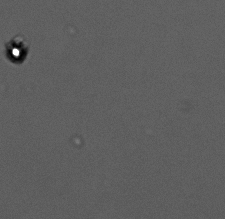Living Cell: (7, 42, 25, 64)
